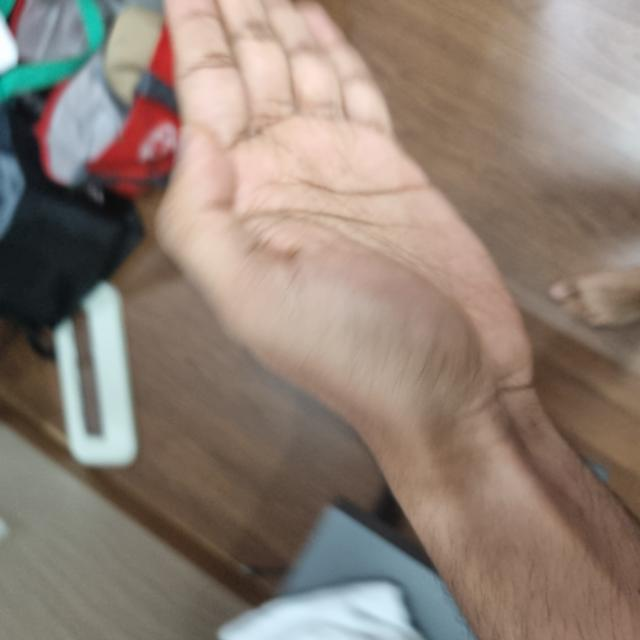Paper: (177, 151, 638, 533)
